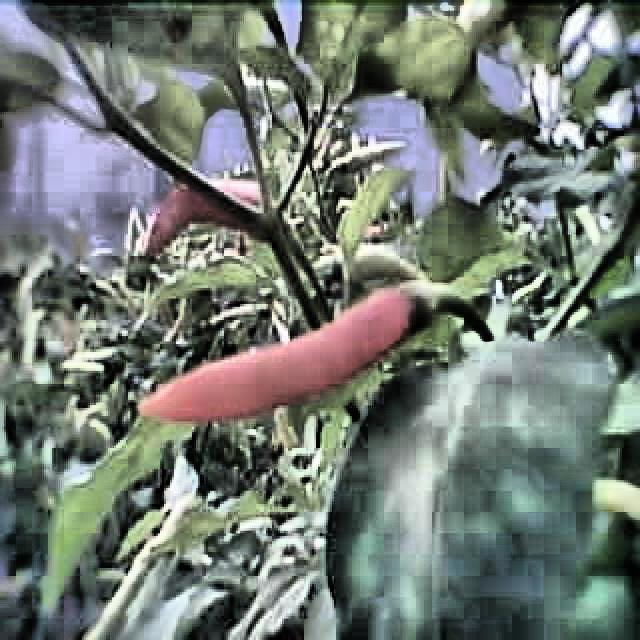Cabai: (145, 274, 455, 450), (126, 168, 265, 256)
